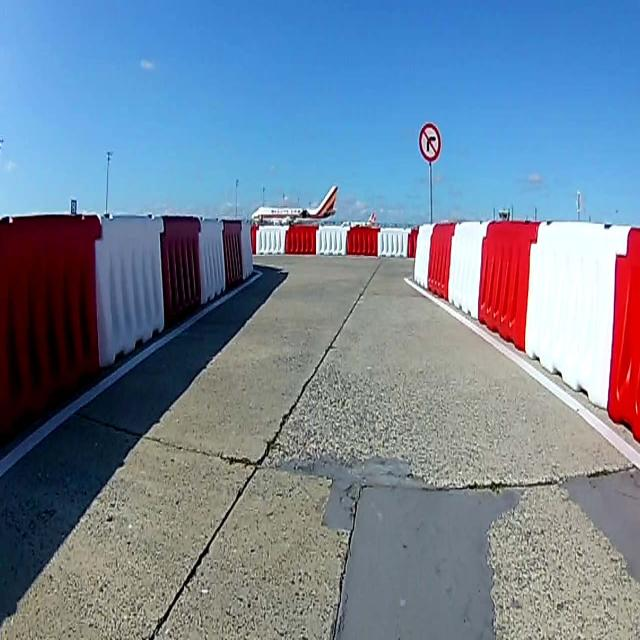sagadonulmez: (418, 122, 441, 162)
